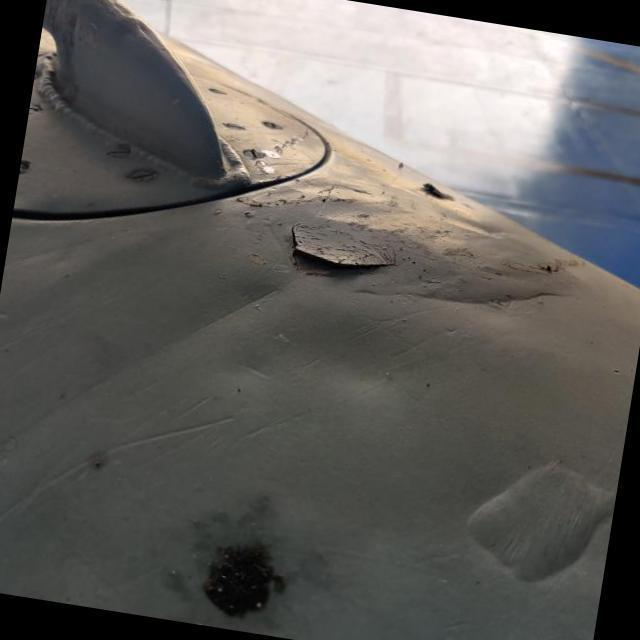Dent: (270, 283, 437, 427)
Rupture: (264, 194, 418, 304)
